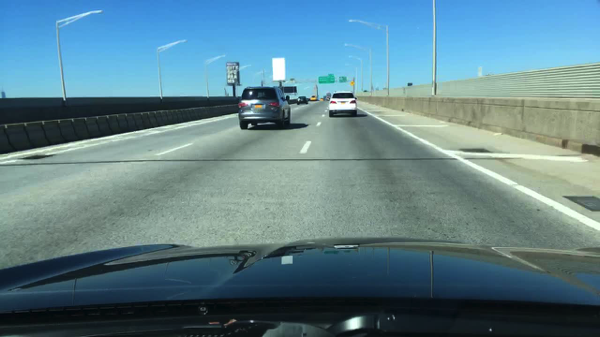car: (236, 85, 292, 131), (327, 90, 359, 118), (295, 96, 309, 106), (309, 94, 318, 102), (325, 95, 331, 102), (319, 97, 324, 103)
traffic sign: (272, 57, 286, 82), (317, 72, 335, 85), (283, 85, 298, 95), (337, 76, 347, 83), (349, 79, 354, 88)
